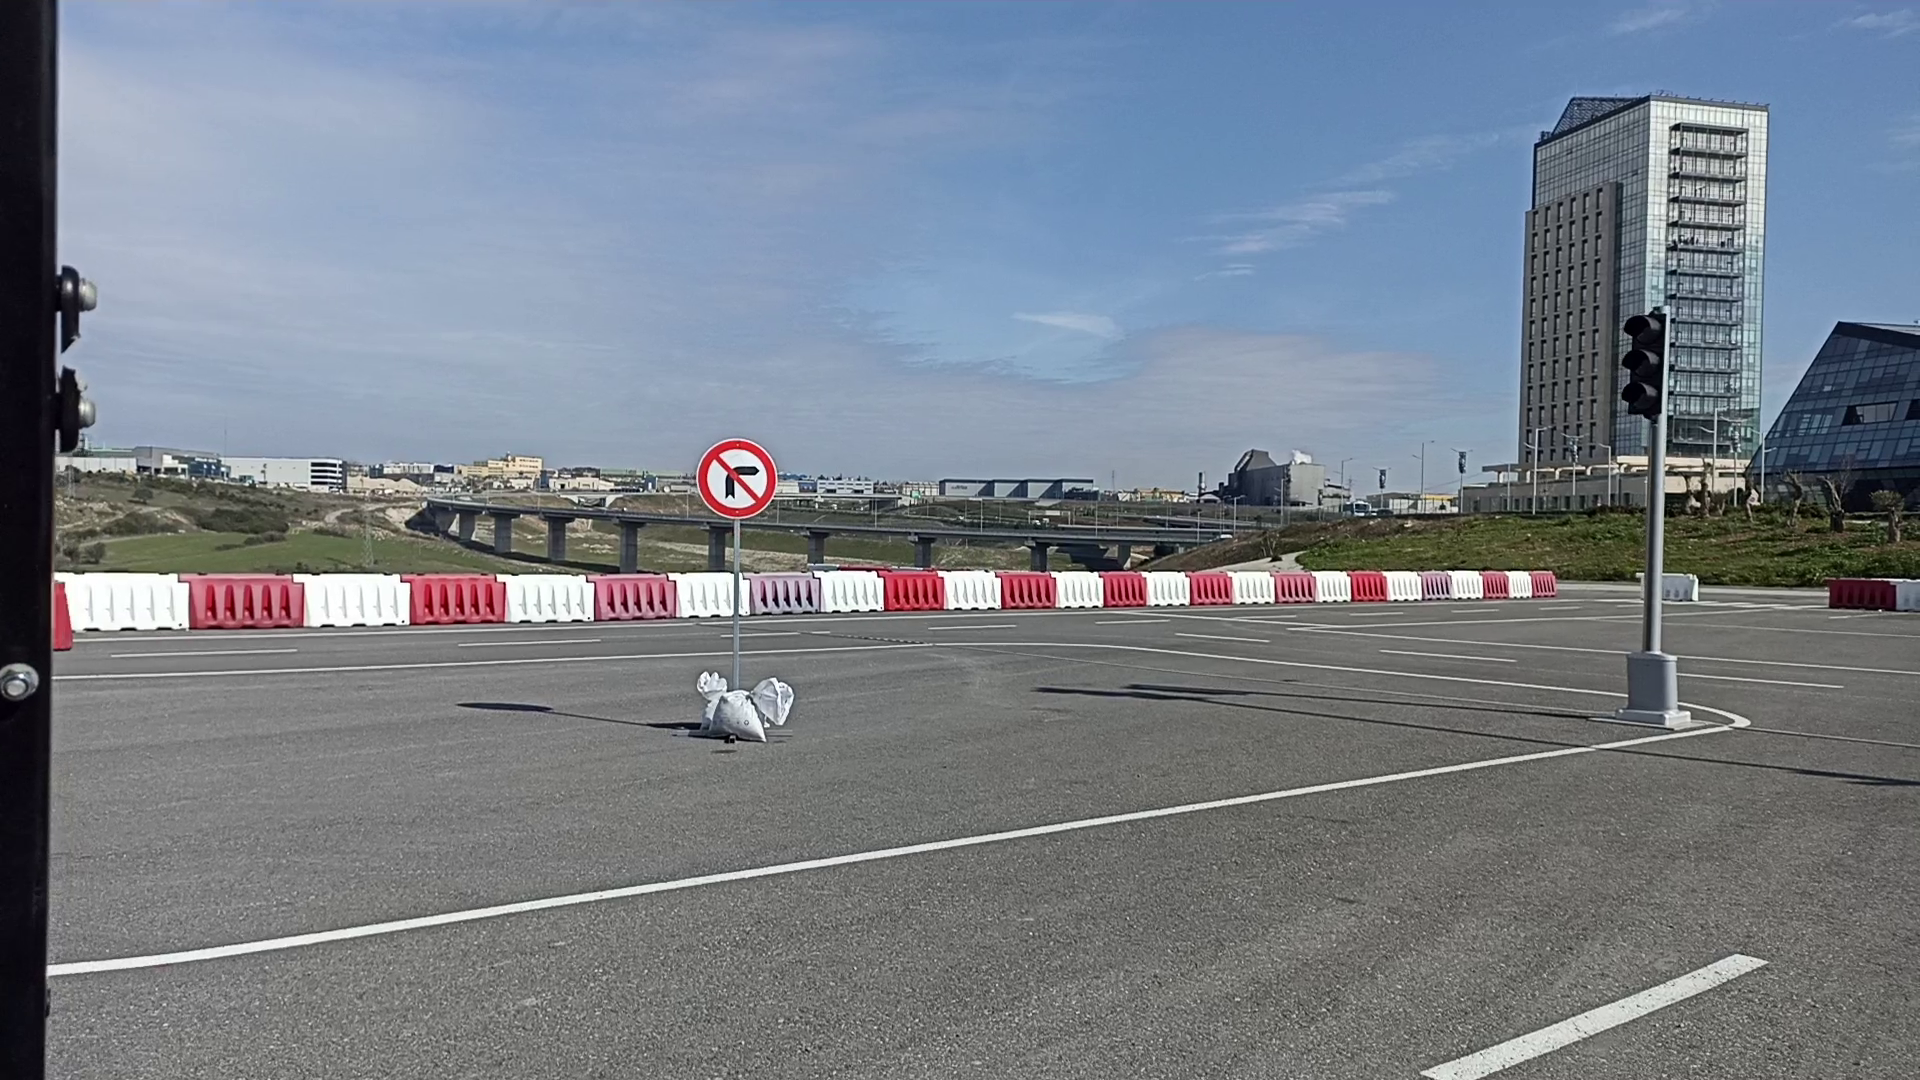noleftturn: (695, 436, 781, 520)
trafficlight: (1619, 306, 1669, 421)
